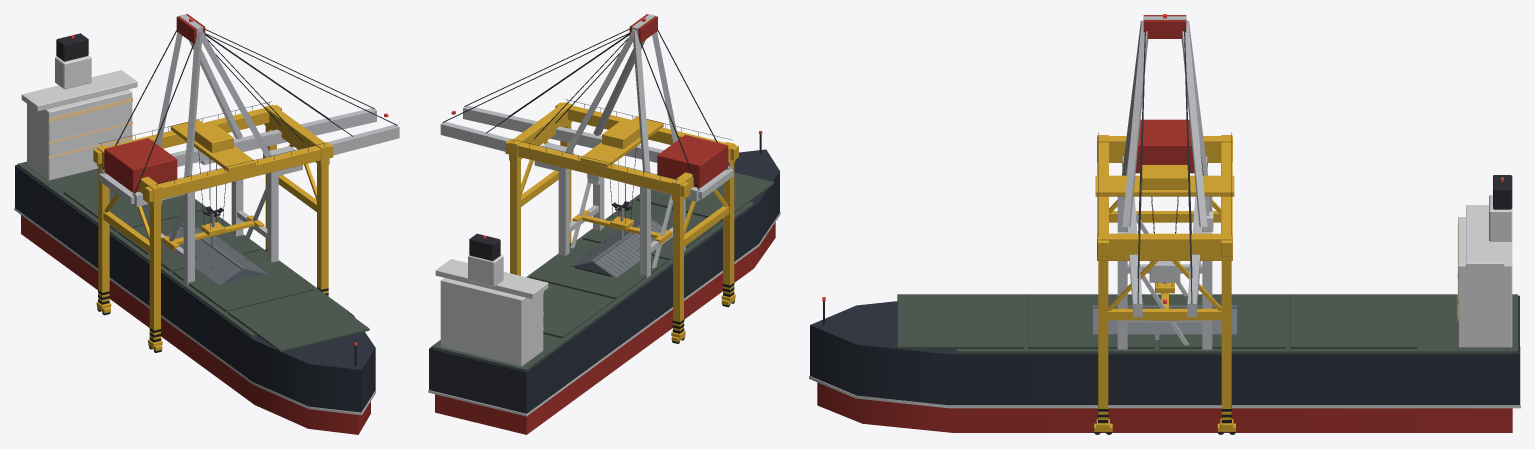
The model's file is Kit.fbx.
3 renders of one model, left to right at view 1: azimuth 30°, elevation 25°; view 2: azimuth 150°, elevation 25°; view 3: azimuth 270°, elevation 25°, orthographic. The views are drawn at different scales.
Visible parts, largest first — view 1: Ship_Hull, Ship_Deck, Crane_Steel, StsCrane_Steel, Ship_Bridge, Ship_Bottom, StsCrane_Band, Shed_Roof, Crane_Trolley, StsCrane_Stays, Ship_Boot, Ship_Window_Glow (+4 smaller); view 2: Ship_Hull, Crane_Steel, Ship_Deck, StsCrane_Steel, Ship_Bridge, Ship_Bottom, StsCrane_Band, Shed_Roof, Crane_Trolley, StsCrane_Stays, Ship_Boot, Shed_RoofRibs (+3 smaller); view 3: Ship_Hull, Ship_Deck, Ship_Bottom, Crane_Steel, StsCrane_Steel, Ship_Bridge, StsCrane_Band, Crane_Trolley, Ship_Boot, Shed_Roof, StsCrane_Stays, Ship_Funnel.
Boxes of the visible parts, x1,y1,x2,y2 form: Ship_Hull: (15, 165, 375, 412); Ship_Deck: (17, 161, 369, 352); Crane_Steel: (93, 104, 333, 350); StsCrane_Steel: (99, 14, 399, 285); Ship_Bridge: (21, 55, 137, 180); Ship_Bottom: (21, 215, 370, 434); StsCrane_Band: (104, 14, 205, 192); Shed_Roof: (166, 223, 266, 285); Crane_Trolley: (170, 119, 255, 171); StsCrane_Stays: (102, 29, 397, 194); Ship_Boot: (14, 207, 375, 415); Ship_Window_Glow: (49, 97, 132, 158); Ship_Hull: (429, 149, 779, 413); Crane_Steel: (505, 102, 738, 342); Ship_Deck: (431, 172, 773, 371); StsCrane_Steel: (440, 14, 733, 277); Ship_Bridge: (435, 255, 548, 366); Ship_Bottom: (435, 222, 775, 434); StsCrane_Band: (629, 14, 728, 188); Shed_Roof: (569, 218, 667, 277); Crane_Trolley: (580, 116, 663, 167); StsCrane_Stays: (442, 28, 730, 189); Ship_Boot: (428, 212, 780, 416); Shed_RoofRibs: (570, 220, 666, 277); Ship_Hull: (810, 295, 1519, 405); Ship_Deck: (897, 294, 1517, 353); Ship_Bottom: (817, 382, 1512, 432); Crane_Steel: (1094, 135, 1235, 431); StsCrane_Steel: (1117, 16, 1212, 349); Ship_Bridge: (1458, 195, 1512, 347); StsCrane_Band: (1135, 15, 1194, 173); Crane_Trolley: (1095, 165, 1234, 196); Ship_Boot: (809, 346, 1520, 408); Shed_Roof: (1092, 305, 1237, 339); StsCrane_Stays: (1137, 29, 1192, 303); Ship_Funnel: (1493, 175, 1512, 209).
Bounding box in the file's own units: 97.7 × 114 × 185.
